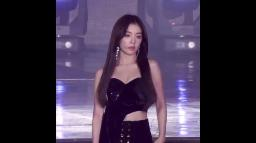face: (122, 23, 142, 55)
